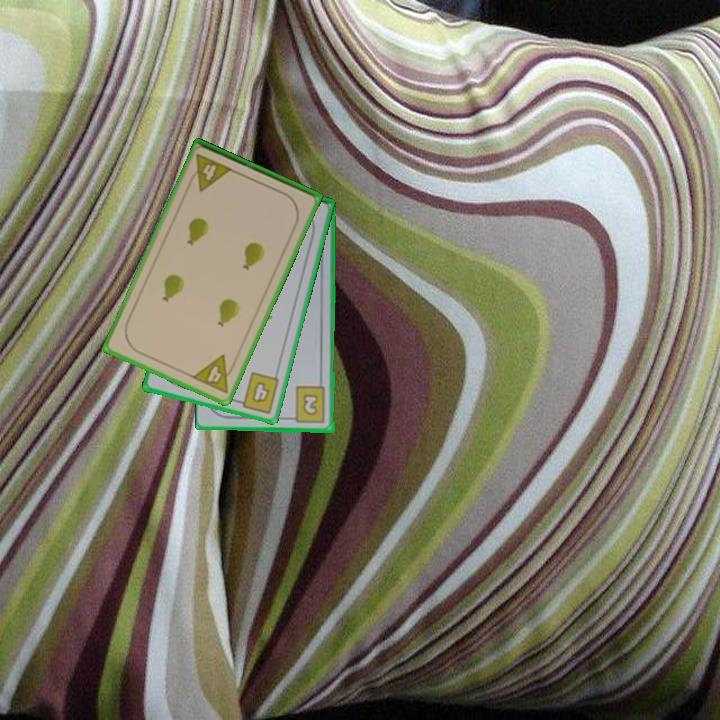2b: (286, 384, 328, 426)
4b: (232, 368, 282, 416)
4p: (188, 351, 240, 397), (185, 150, 235, 194)
